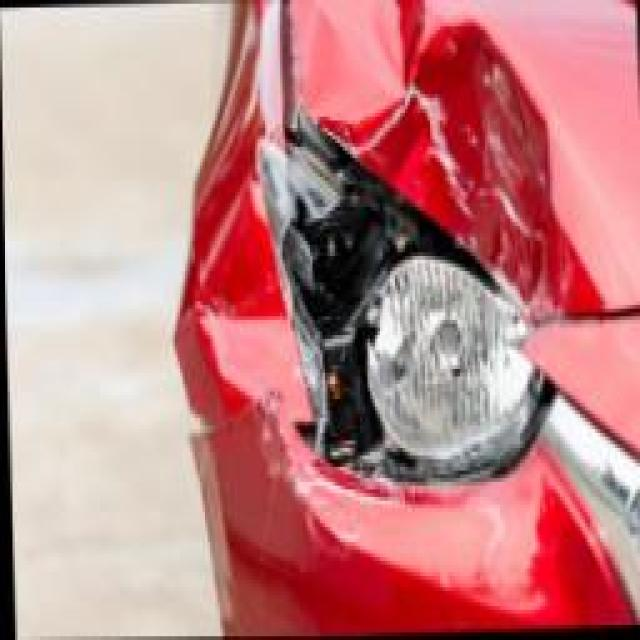Bonnet: (288, 0, 627, 322)
Bumper: (169, 177, 640, 638)
Light: (258, 105, 546, 487)
